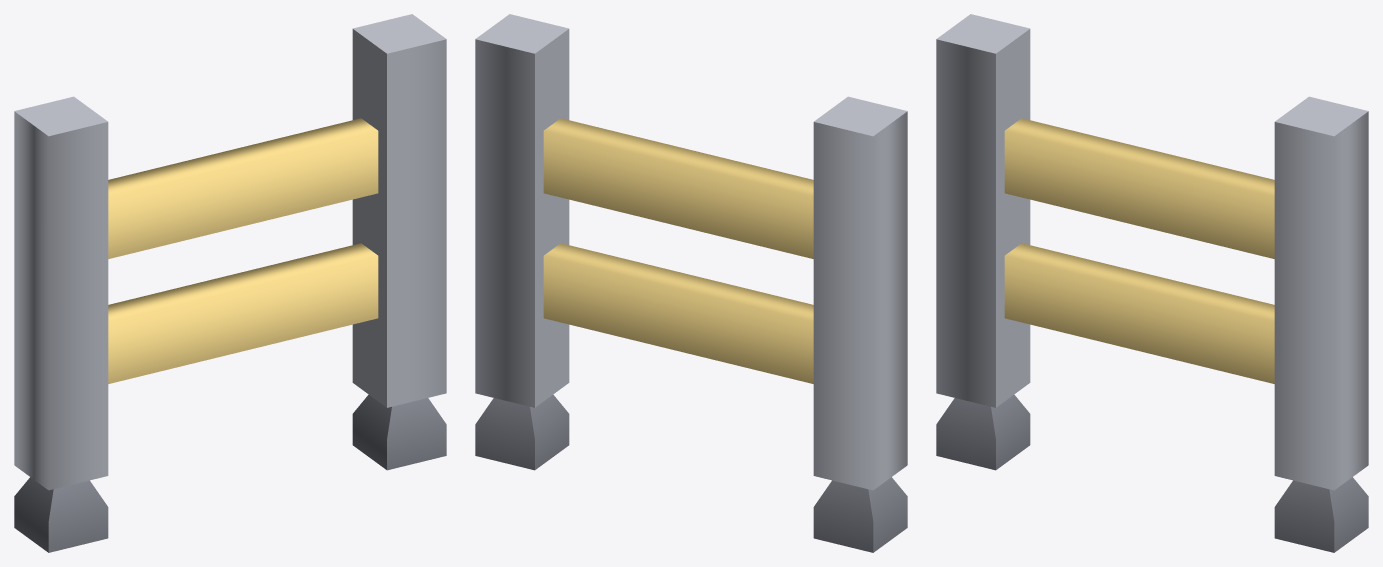
File: structure-yellow-medium.fbx
3 views of the same model, side by side, from view 1: azimuth 30°, elevation 25°; view 2: azimuth 150°, elevation 25°; view 3: azimuth 330°, elevation 25° (orthographic).
Visible parts, largest first — view 1: structure-yellow-medium; view 2: structure-yellow-medium; view 3: structure-yellow-medium.
Boxes of the visible parts, left/top/right/bottom form: structure-yellow-medium: left=14, top=14, right=446, bottom=552; structure-yellow-medium: left=475, top=14, right=907, bottom=552; structure-yellow-medium: left=936, top=14, right=1368, bottom=552.
Bounding box in the file's own units: 100 × 100 × 15.
